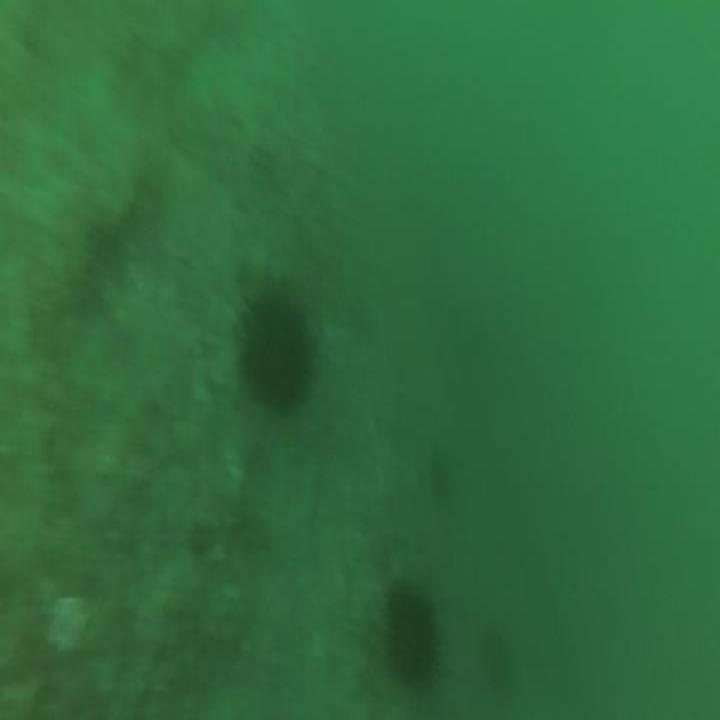echinus: (243, 297, 312, 411), (385, 585, 442, 690)
